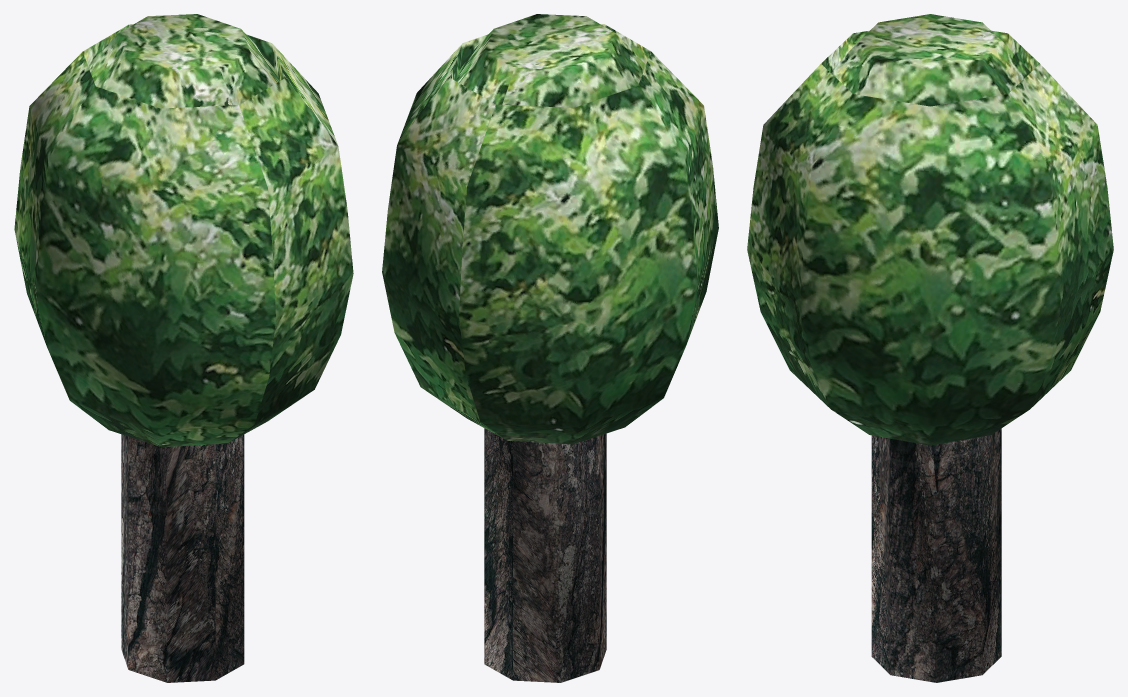
The model's file is Tree.fbx.
3 renders of one model, left to right at view 1: azimuth 30°, elevation 25°; view 2: azimuth 150°, elevation 25°; view 3: azimuth 270°, elevation 25°, orthographic.
Visible parts, largest first — view 1: Cylinder.001, Tree_Bottom; view 2: Cylinder.001, Tree_Bottom; view 3: Cylinder.001, Tree_Bottom.
Part boxes in pixels (x1,y1,x2,y2): Cylinder.001: (14,14,353,447); Tree_Bottom: (121,434,244,682); Cylinder.001: (382,14,718,444); Tree_Bottom: (484,428,606,682); Cylinder.001: (747,14,1113,445); Tree_Bottom: (871,428,1001,682).
Size of the model in its own units: 81.64 by 163 by 88.17.
